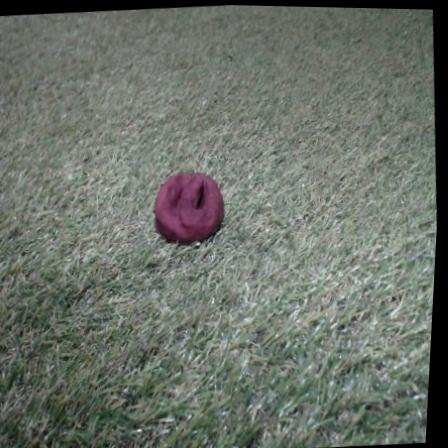dog-poop: (144, 161, 236, 250)
